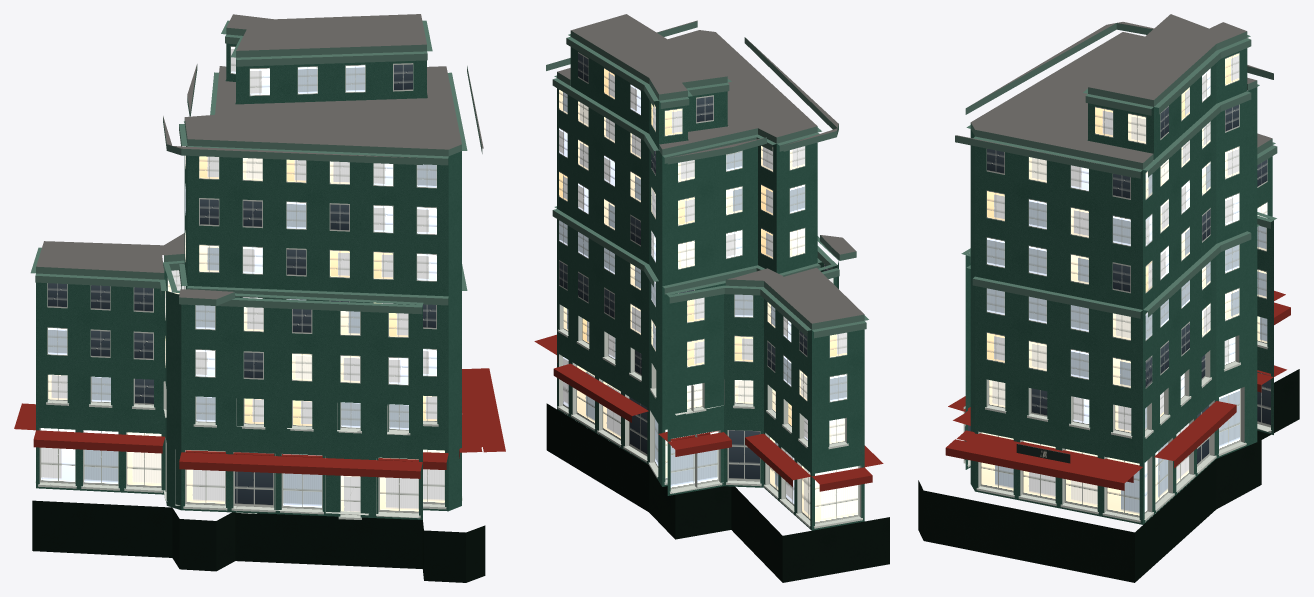
File: langC_leeward.glb
3 renders of one model, left to right at view 1: azimuth 30°, elevation 25°; view 2: azimuth 150°, elevation 25°; view 3: azimuth 270°, elevation 25°, orthographic. The views are drawn at different scales.
Visible parts, largest first — view 1: langC_leeward; view 2: langC_leeward; view 3: langC_leeward.
Part boxes in pixels (x1,y1,x2,y2): langC_leeward: [14, 14, 505, 582]; langC_leeward: [534, 14, 889, 582]; langC_leeward: [918, 14, 1299, 582].
Bounding box in the file's own units: 26.06 × 27.65 × 20.51.
Materials: 3 (3 with a texture image).
